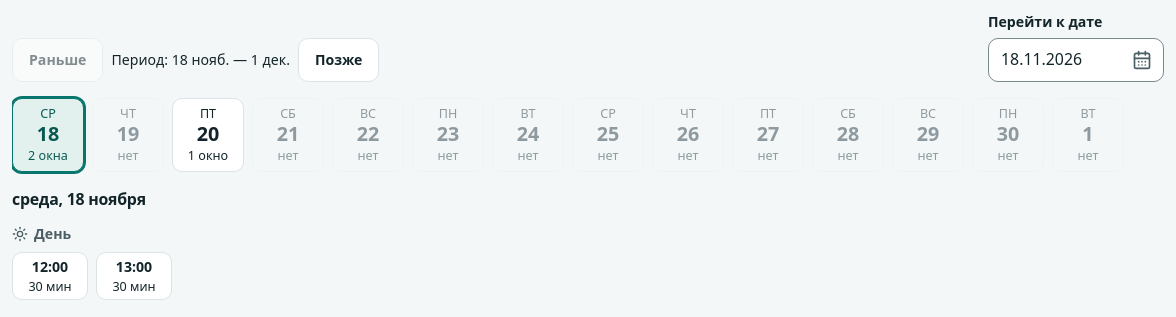
Scenario: SlotPicker › should show the slots of another day when its chip is chosen
expect the button with test id "slot-s-1" is shown: met, box [12, 252, 88, 300]
What coordinates should you click on to do the following:
click the radio button labelled "пт 20 1 окно"
I would click on:
 (208, 135)
Its box is [172, 98, 244, 172].
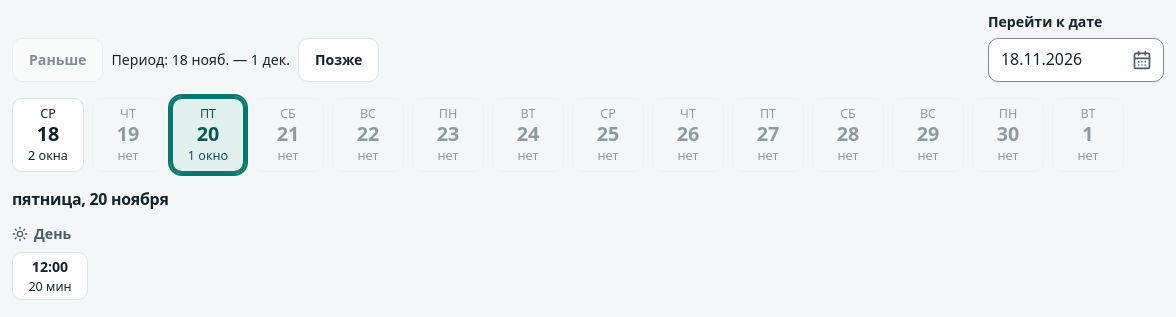
expect the button with test id "slot-s-3" is shown: met, box [12, 252, 88, 300]
expect the button with test id "slot-s-1" is gone: met
